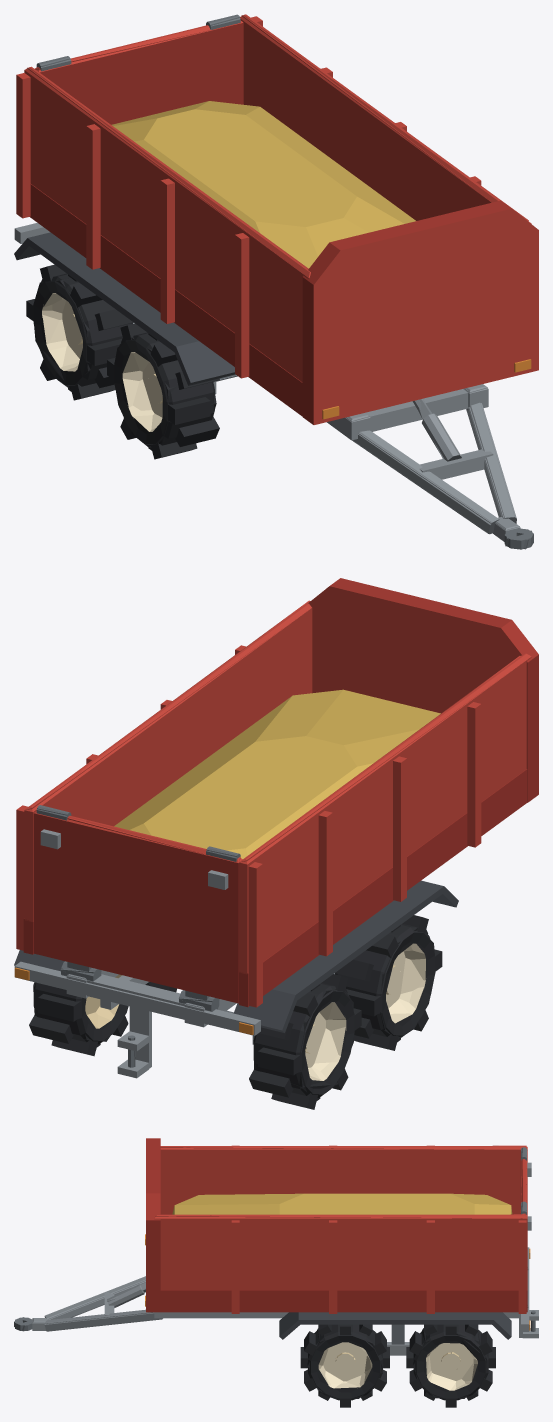
The model's file is FMS_Mach_Trailer_Tipper.fbx.
The picture shows the model from 3 angles, top to bottom: view 1: azimuth 30°, elevation 25°; view 2: azimuth 150°, elevation 25°; view 3: azimuth 270°, elevation 25°; orthographic projection. The views are drawn at different scales.
Visible parts, largest first — view 1: Bed, Load_Grain_Low1, Chassis, Tailgate, Wheel_FR, Wheel_RR, Bed_Low1, Chassis_Low1, Wheel_FR_Low1, Wheel_RR_Low1, Load_Grain; view 2: Bed, Tailgate, Load_Grain_Low1, Chassis, Wheel_RR, Wheel_FR, Load_Grain, Wheel_RL, Bed_Low1, Chassis_Low1, Wheel_FR_Low1, Wheel_RR_Low1 (+1 smaller); view 3: Bed, Chassis, Load_Grain_Low1, Wheel_FL, Wheel_RL, Bed_Low1, Wheel_RL_Low1, Wheel_FL_Low1, Chassis_Low1, Tailgate.
Boxes of the visible parts, x1,y1,x2,y2 form: Bed: [16, 14, 538, 424]; Load_Grain_Low1: [111, 101, 415, 268]; Chassis: [14, 223, 533, 549]; Tailgate: [34, 14, 243, 124]; Wheel_FR: [107, 323, 219, 459]; Wheel_RR: [26, 264, 133, 400]; Bed_Low1: [27, 15, 528, 424]; Chassis_Low1: [14, 223, 531, 549]; Wheel_FR_Low1: [107, 324, 219, 458]; Wheel_RR_Low1: [26, 269, 131, 390]; Load_Grain: [114, 107, 286, 147]; Bed: [16, 578, 538, 1007]; Tailgate: [33, 805, 242, 1003]; Load_Grain_Low1: [114, 689, 440, 858]; Chassis: [14, 880, 458, 1078]; Wheel_RR: [249, 974, 361, 1109]; Wheel_FR: [335, 915, 442, 1050]; Load_Grain: [159, 779, 329, 858]; Wheel_RL: [29, 982, 128, 1056]; Bed_Low1: [25, 578, 538, 999]; Chassis_Low1: [14, 962, 334, 1066]; Wheel_FR_Low1: [335, 919, 436, 1050]; Wheel_RR_Low1: [254, 984, 361, 1108]; Bed: [145, 1138, 527, 1313]; Chassis: [15, 1247, 538, 1355]; Load_Grain_Low1: [174, 1193, 512, 1214]; Wheel_FL: [300, 1324, 389, 1407]; Wheel_RL: [406, 1324, 495, 1407]; Bed_Low1: [146, 1138, 526, 1311]; Wheel_RL_Low1: [406, 1324, 495, 1407]; Wheel_FL_Low1: [304, 1324, 389, 1405]; Chassis_Low1: [14, 1248, 533, 1344]; Tailgate: [520, 1147, 531, 1230].
Size of the model in its own units: 2.5 by 2.7 by 6.45.
Materials: 1 (1 with a texture image).
